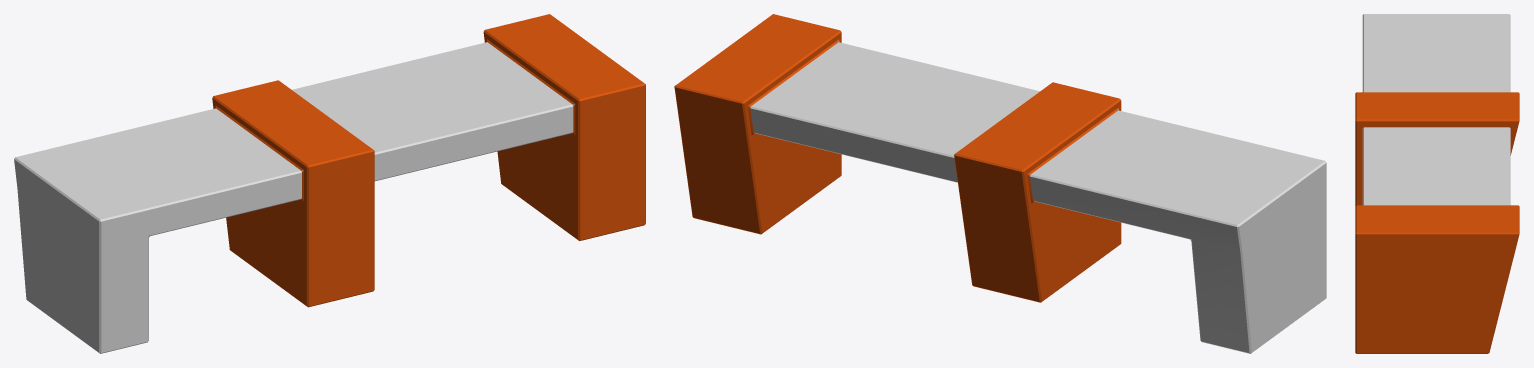
The model's file is bench.fbx.
The picture shows the model from 3 angles, left to right: view 1: azimuth 30°, elevation 25°; view 2: azimuth 150°, elevation 25°; view 3: azimuth 270°, elevation 25°; orthographic projection. The views are drawn at different scales.
Visible parts, largest first — view 1: Box006; view 2: Box006; view 3: Box006.
Part boxes in pixels (x1,y1,x2,y2): Box006: (14, 14, 645, 353); Box006: (674, 14, 1326, 353); Box006: (1355, 14, 1519, 353).
Bounding box in the file's own units: 246 × 61.44 × 75.41.
